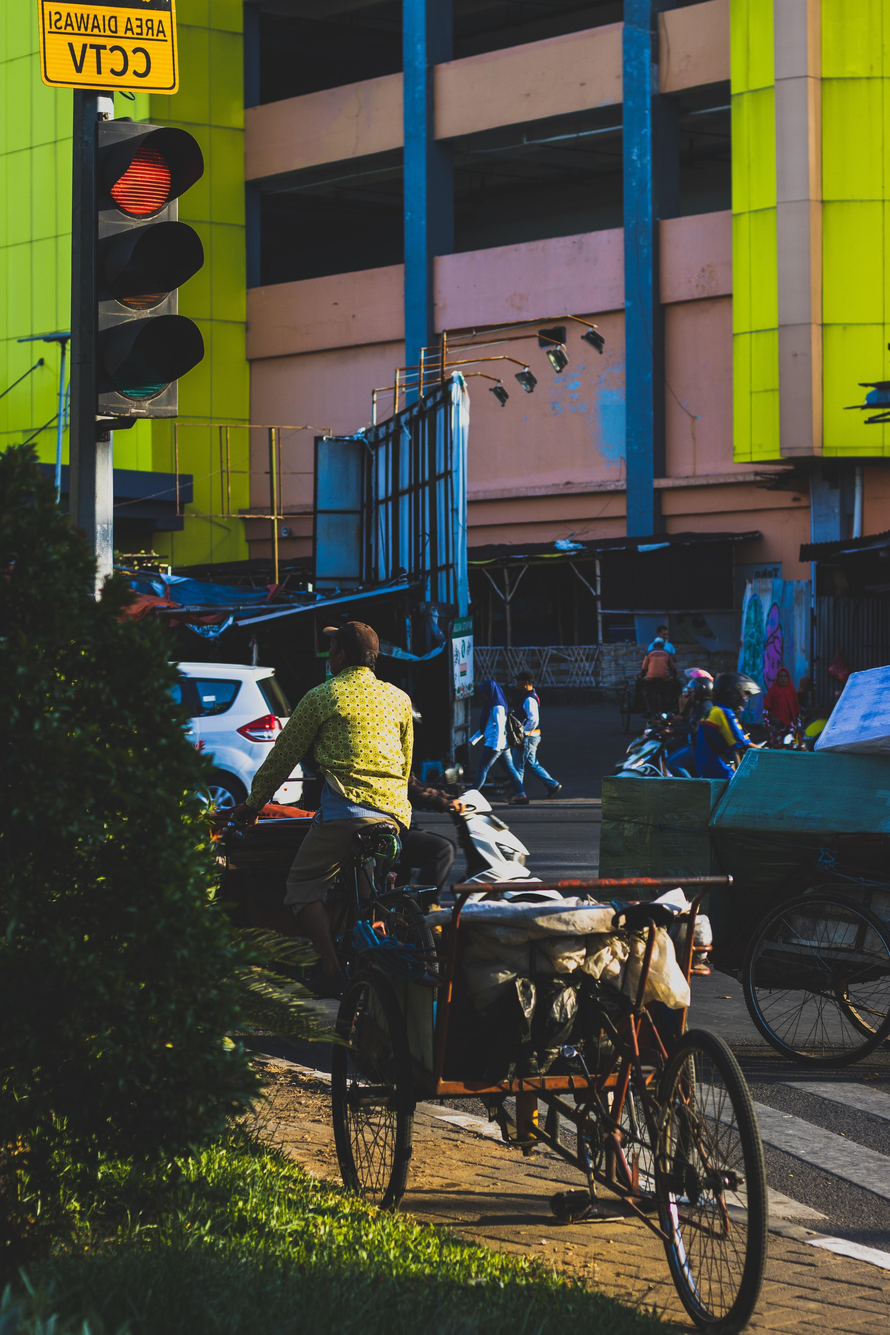red: (69, 106, 209, 414)
